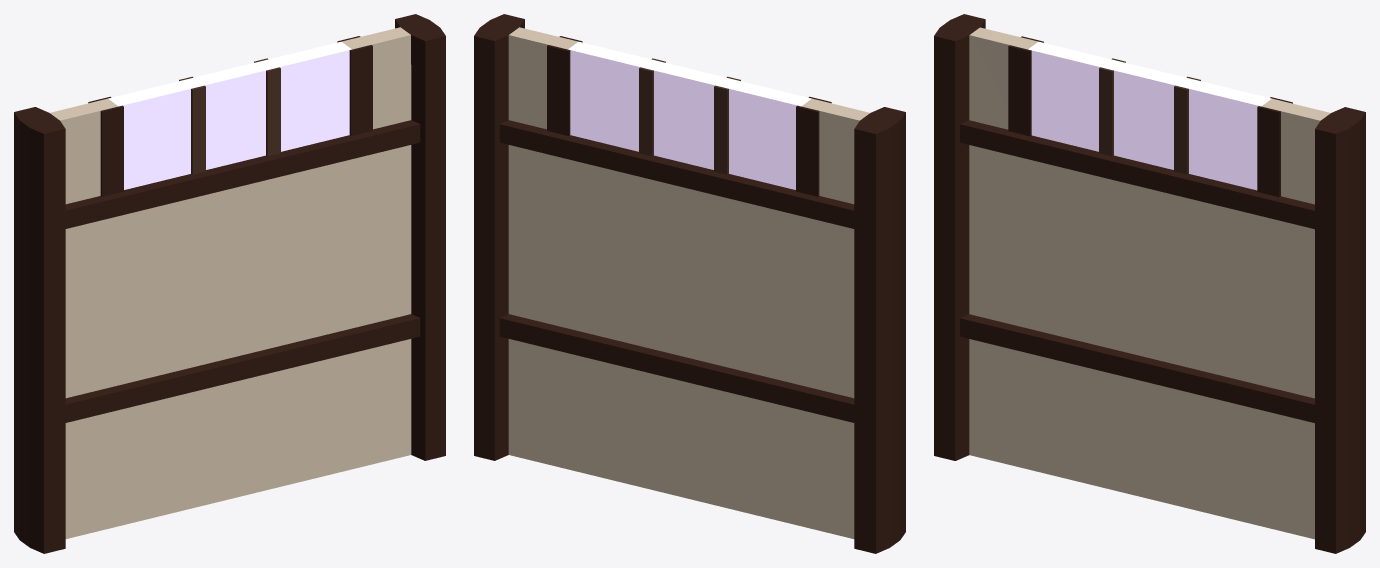
Rendered from BuildingWall_7_1  Asia.fbx.
3 renders of one model, left to right at view 1: azimuth 30°, elevation 25°; view 2: azimuth 150°, elevation 25°; view 3: azimuth 330°, elevation 25°, orthographic.
Visible parts, largest first — view 1: BuildingWall_7_1; view 2: BuildingWall_7_1; view 3: BuildingWall_7_1.
Part boxes in pixels (x1,y1,x2,y2): BuildingWall_7_1: [14, 14, 445, 553]; BuildingWall_7_1: [474, 14, 905, 553]; BuildingWall_7_1: [934, 14, 1365, 553].
Bounding box in the file's own units: 2 × 1.96 × 0.254.
